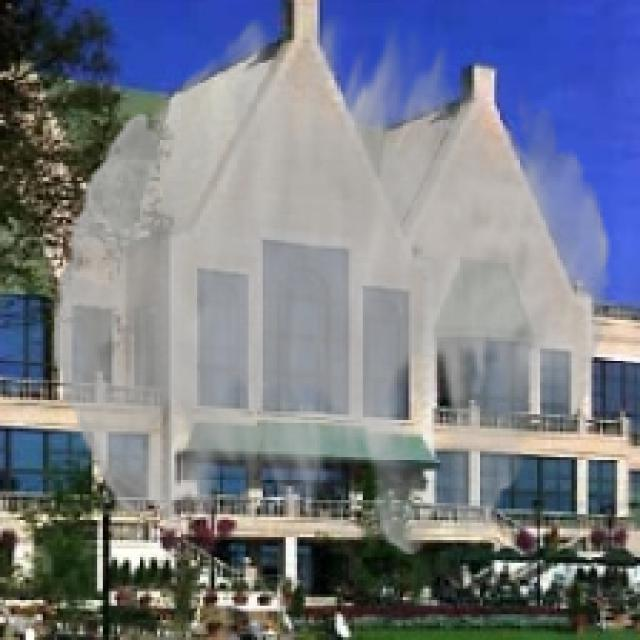Smoke: (54, 14, 612, 554)
